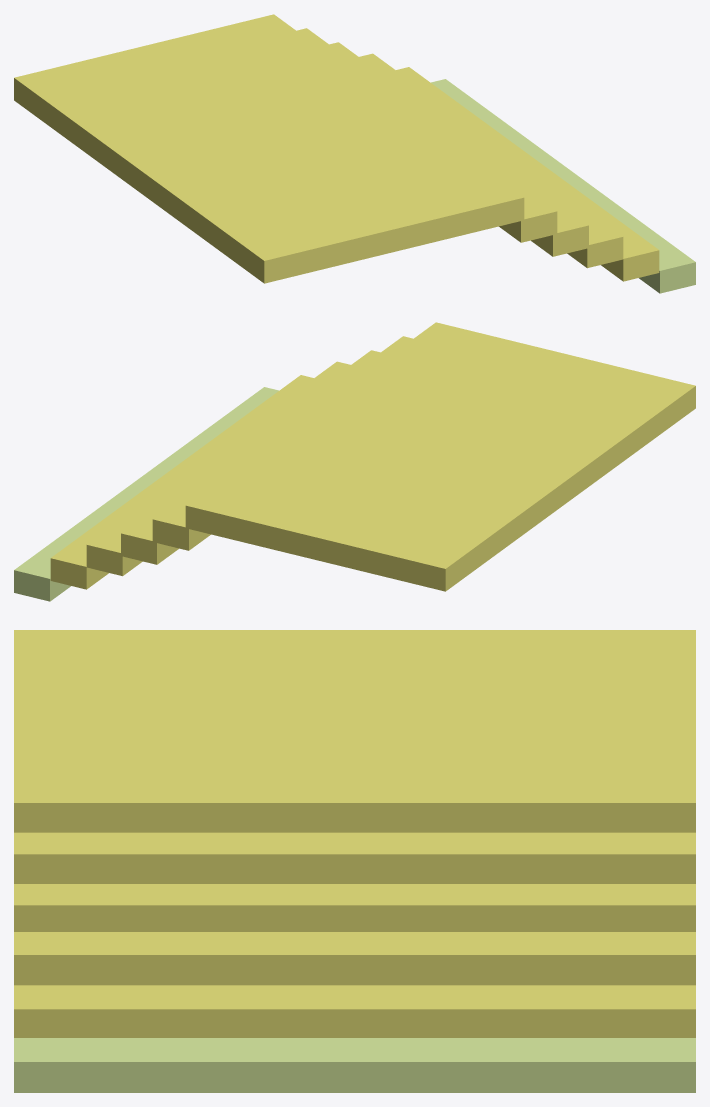
Rendered from stair.fbx.
3 renders of one model, top to bottom at view 1: azimuth 30°, elevation 25°; view 2: azimuth 150°, elevation 25°; view 3: azimuth 270°, elevation 25°, orthographic. The views are drawn at different scales.
Parts seen in each view (by area): view 1: Cube.005, Cube, Cube.002, Cube.001, Cube.004, Cube.003; view 2: Cube.005, Cube, Cube.002, Cube.001, Cube.004, Cube.003; view 3: Cube.005, Cube, Cube.002, Cube.001, Cube.004, Cube.003.
Boxes of the visible parts, x1,y1,x2,y2 form: Cube.005: [14, 14, 524, 283]; Cube: [431, 79, 695, 293]; Cube.002: [359, 53, 623, 268]; Cube.001: [396, 67, 659, 281]; Cube.004: [297, 28, 557, 242]; Cube.003: [329, 42, 588, 256]; Cube.005: [185, 322, 695, 591]; Cube: [14, 387, 278, 601]; Cube.002: [86, 361, 350, 576]; Cube.001: [50, 375, 313, 589]; Cube.004: [152, 336, 412, 550]; Cube.003: [121, 350, 380, 564]; Cube.005: [14, 630, 695, 832]; Cube: [14, 1038, 695, 1092]; Cube.002: [14, 932, 695, 985]; Cube.001: [14, 985, 695, 1037]; Cube.004: [14, 832, 695, 883]; Cube.003: [14, 884, 695, 931].
Bounding box in the file's own units: 299 × 85.4 × 300.
